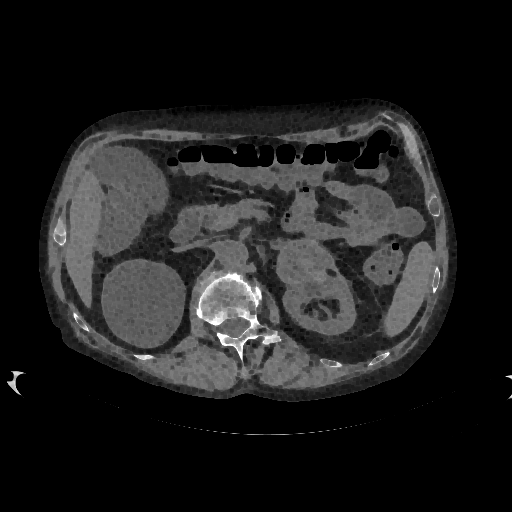Lesion: (271, 239, 337, 288)
